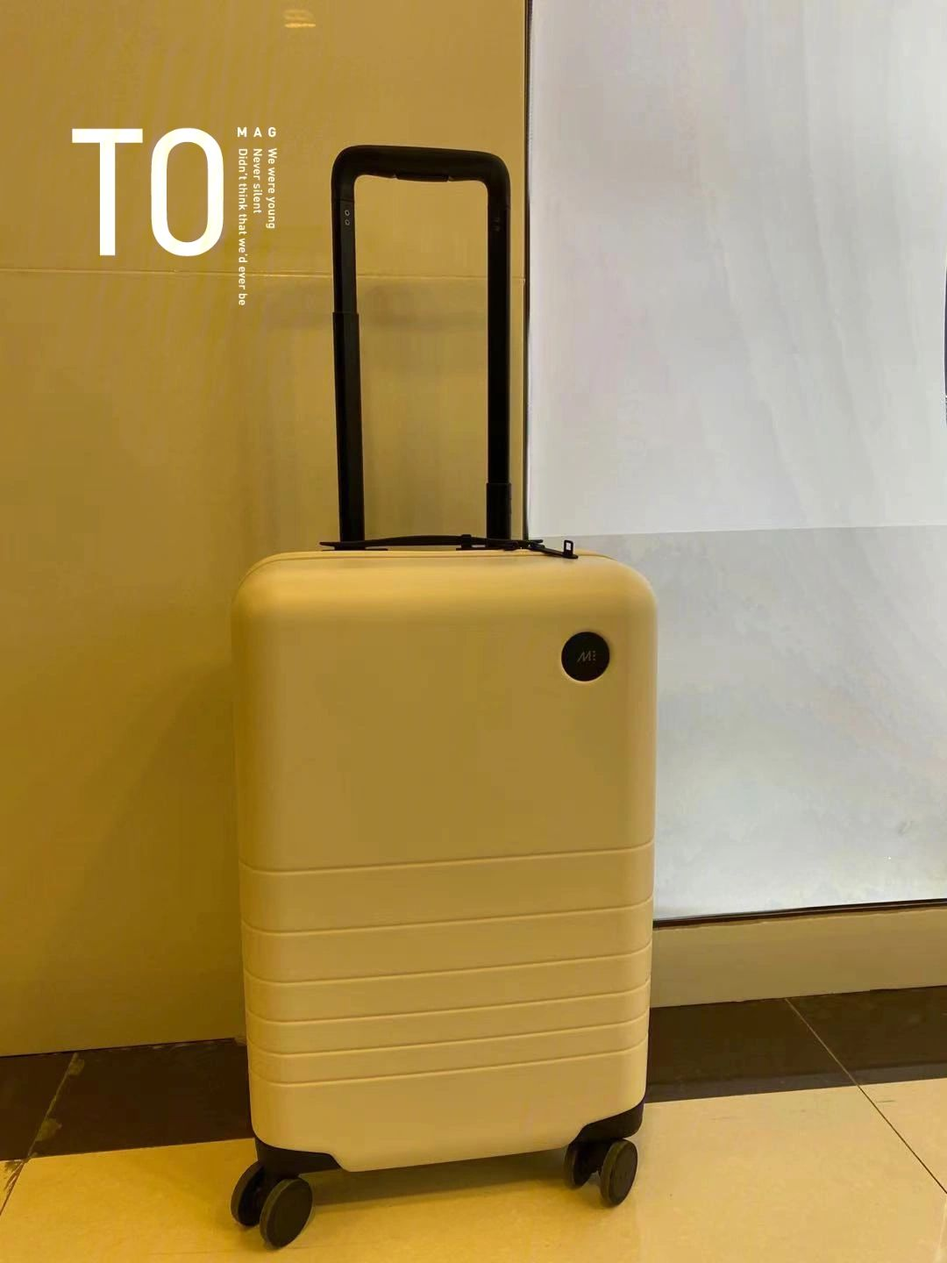box: (231, 550, 659, 1172)
handle: (317, 535, 543, 550)
wheel: (231, 1160, 313, 1249), (562, 1138, 637, 1207)
